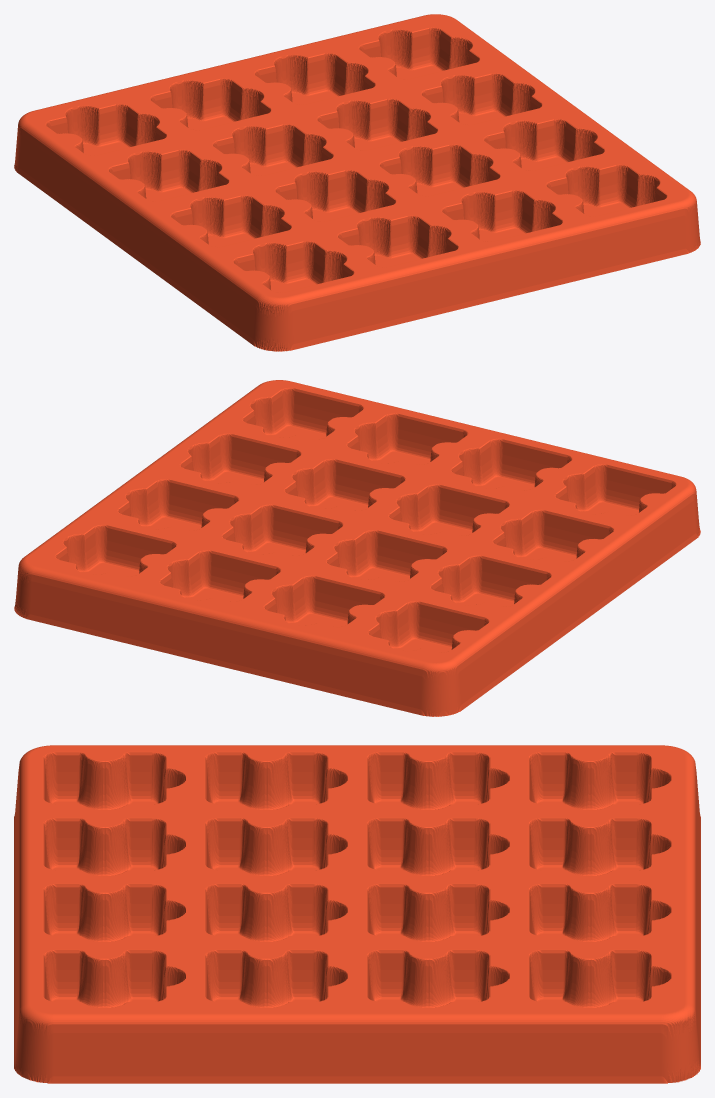
The model's file is mold.glb.
3 views of the same model, one above another, from view 1: azimuth 30°, elevation 25°; view 2: azimuth 150°, elevation 25°; view 3: azimuth 270°, elevation 25° (orthographic). The views are drawn at different scales.
Parts seen in each view (by area): view 1: geometry_0; view 2: geometry_0; view 3: geometry_0.
Part boxes in pixels (box(x1,y1,x2,y2)): geometry_0: box(14, 14, 700, 351); geometry_0: box(14, 380, 700, 716); geometry_0: box(14, 745, 700, 1083).
Bounding box in the file's own units: 0.1517 × 0.0159 × 0.1569.
